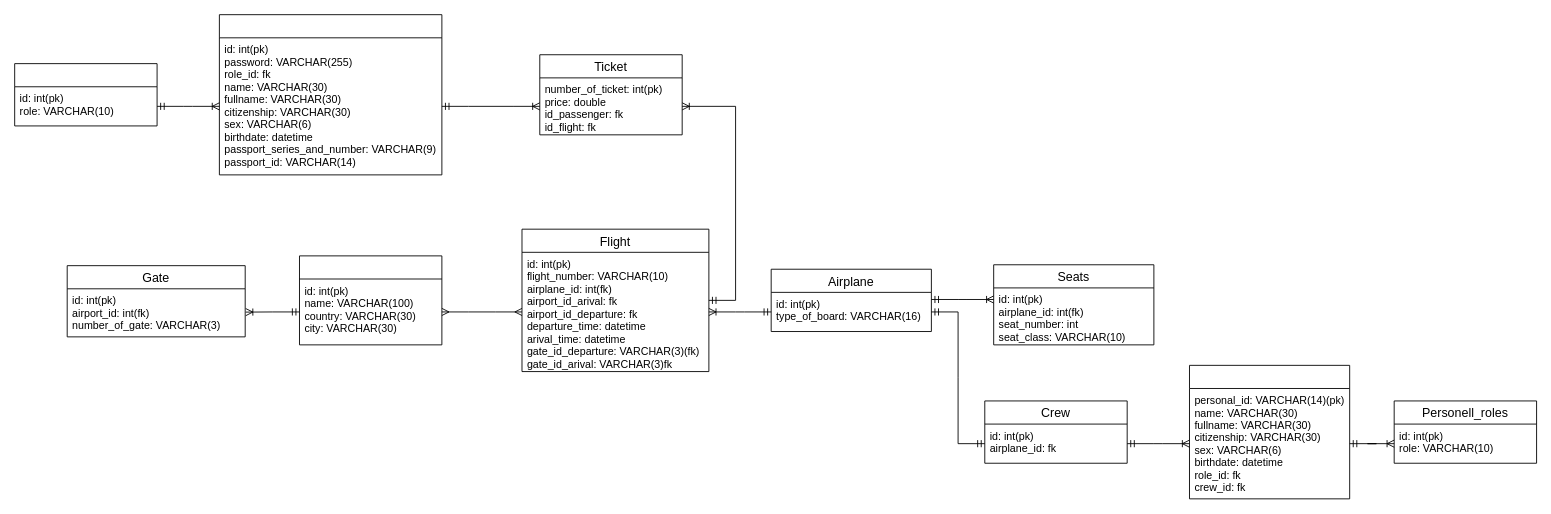
This 1551x514 diagram has some shape labels left out. Here are the shapes that lost their labels. From the top down, the box of each, then its label:
(14, 63, 157, 126): User_roles
(218, 14, 442, 175): User
(299, 255, 442, 345): Airport
(1189, 364, 1350, 499): Personell
